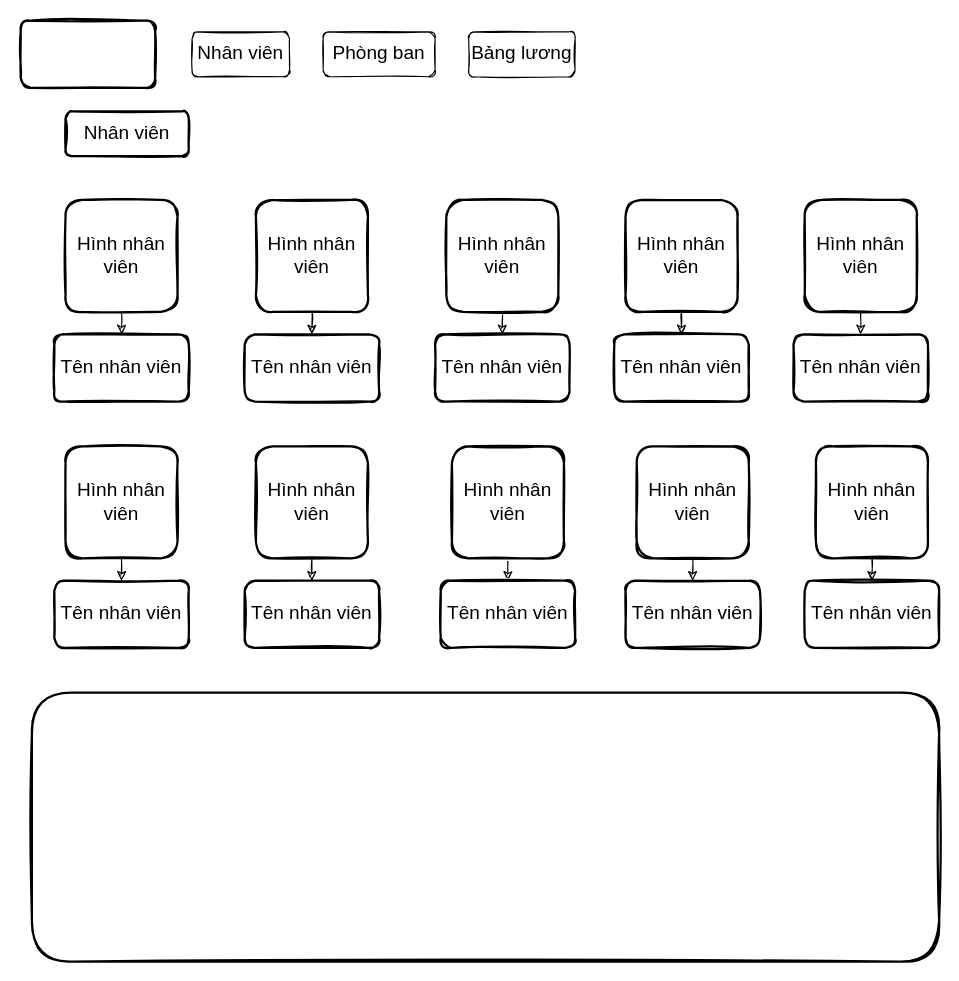
Some shapes in this 959 by 981 pixel diagram are drawn without their labels. Each missing label, with the centre of its shape:
"Footer" belongs at point 485,826.
"Logo" belongs at point 87,53.
